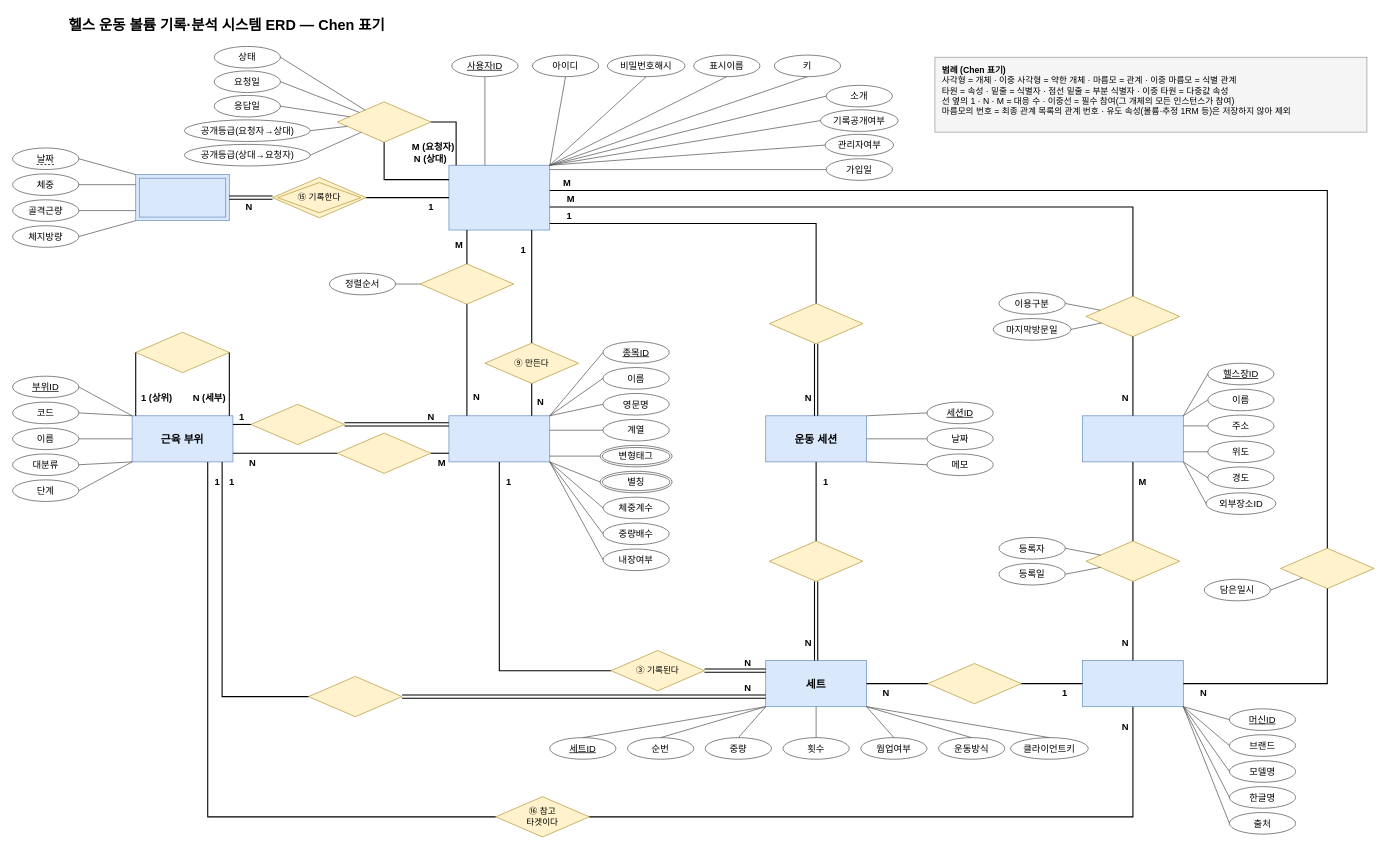
This 1387x850 diagram has some shape labels left out. The centre of each missing label's shape, as x and y in pixels:
"① 수행한다" goes at pixel 816 323.
"② 포함한다" goes at pixel 816 560.
"④ 타겟이 된다" goes at pixel 355 696.
"⑤ 세분된다" goes at pixel 182 352.
"⑥ 기본 타겟이다" goes at pixel 297 424.
"⑦ 보조로 자극한다" goes at pixel 384 452.
"⑧ 즐겨찾는다" goes at pixel 466 283.
"⑩ 사용된다" goes at pixel 974 683.
"⑪ 담는다" goes at pixel 1327 568.
"⑫ 보유한다" goes at pixel 1132 560.
"⑬ 등록한다" goes at pixel 1132 316.
"⑭ 친구 요청한다" goes at pixel 384 121.
"머신" goes at pixel 1132 683.
"사용자" goes at pixel 499 197.
"신체 기록" goes at pixel 182 197.
"종목" goes at pixel 499 438.
"헬스장" goes at pixel 1132 438.
